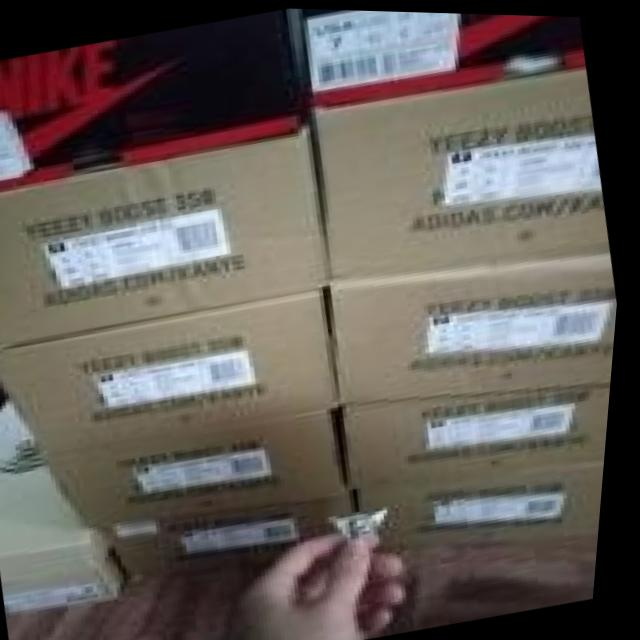box: (0, 129, 331, 351), (316, 66, 610, 277), (0, 288, 344, 458), (0, 8, 313, 192), (337, 249, 620, 400), (51, 408, 349, 528), (0, 396, 134, 615), (299, 7, 583, 105), (352, 379, 617, 484), (362, 456, 612, 545), (119, 494, 358, 582)
